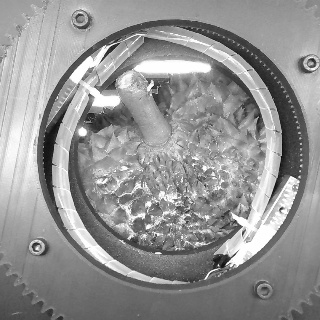base: (137, 120, 179, 153)
end: (114, 69, 135, 91)
